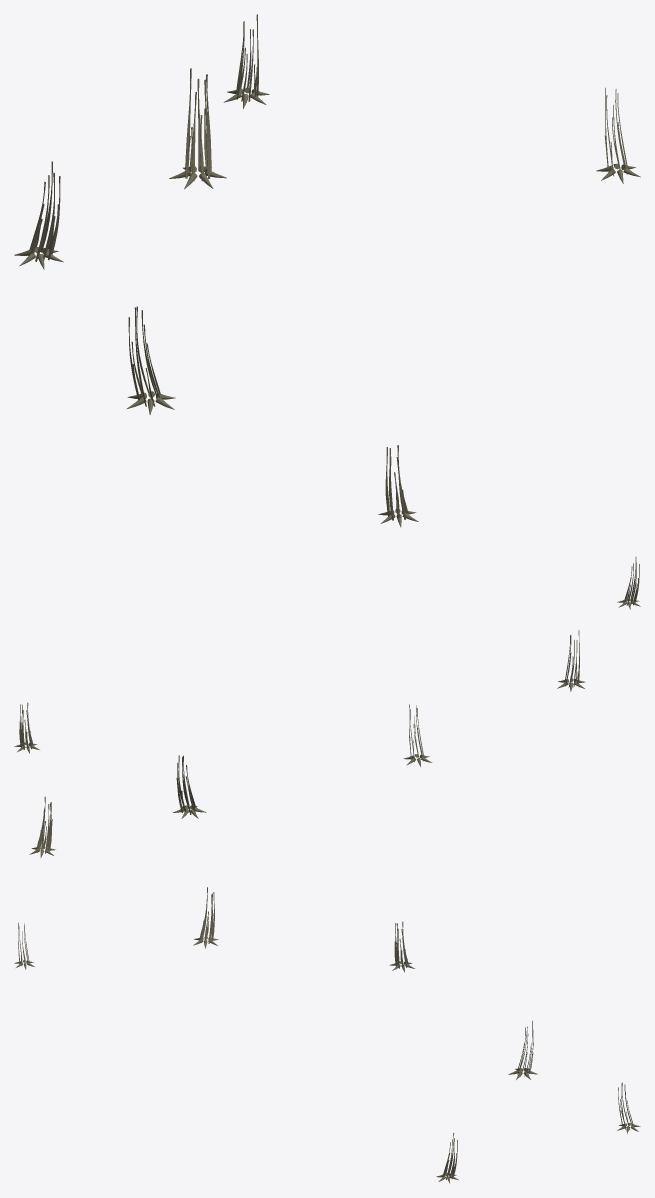
File: eucalyptus--old-bark.glb
The picture shows the model from 3 angles, top to bottom: view 1: azimuth 30°, elevation 25°; view 2: azimuth 150°, elevation 25°; view 3: azimuth 270°, elevation 25°; orthographic projection. The views are drawn at different scales.
Parts seen in each view (by area): view 1: eucalyptus-2, eucalyptus-4, eucalyptus-1, eucalyptus-6, eucalyptus-3, eucalyptus-5; view 2: eucalyptus-2, eucalyptus-6, eucalyptus-4, eucalyptus-1, eucalyptus-5, eucalyptus-3; view 3: eucalyptus-4, eucalyptus-2, eucalyptus-1.
Part boxes in pixels (<box>): eucalyptus-2: <box>169,68,226,189</box>; eucalyptus-4: <box>127,306,175,414</box>; eucalyptus-1: <box>14,161,63,269</box>; eucalyptus-6: <box>223,14,269,108</box>; eucalyptus-3: <box>596,87,640,183</box>; eucalyptus-5: <box>378,445,418,527</box>; eucalyptus-2: <box>173,755,206,818</box>; eucalyptus-6: <box>29,796,55,857</box>; eucalyptus-4: <box>557,630,585,691</box>; eucalyptus-1: <box>403,704,432,766</box>; eucalyptus-5: <box>617,557,640,609</box>; eucalyptus-3: <box>14,702,39,753</box>; eucalyptus-4: <box>193,887,218,948</box>; eucalyptus-2: <box>508,1020,537,1079</box>; eucalyptus-1: <box>389,921,414,972</box>.
Size of the model in its own units: 29.77 by 8.05 by 41.51.
